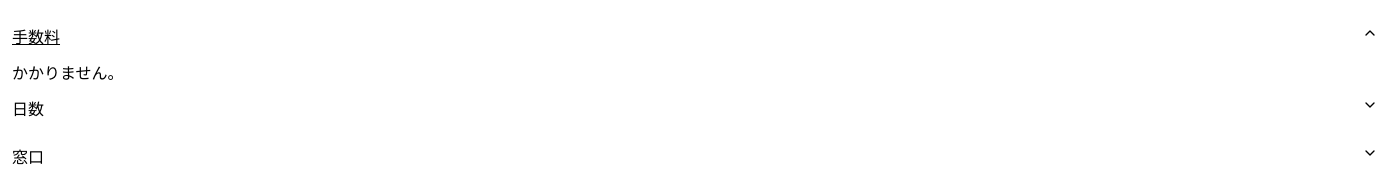
Accordion › keeps one open at a time unless multiple, and can close all
Later steps or results of the test are not shown.
Click the button "日数" at point(28, 110), box [12,84,1378,132]
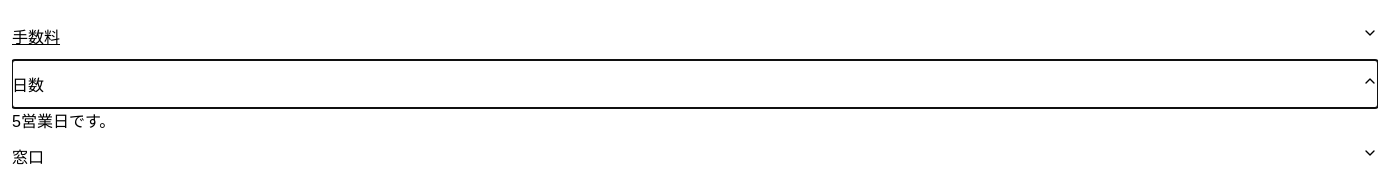
Expected: the button "手数料" is collapsed, [12,12,1378,60]
